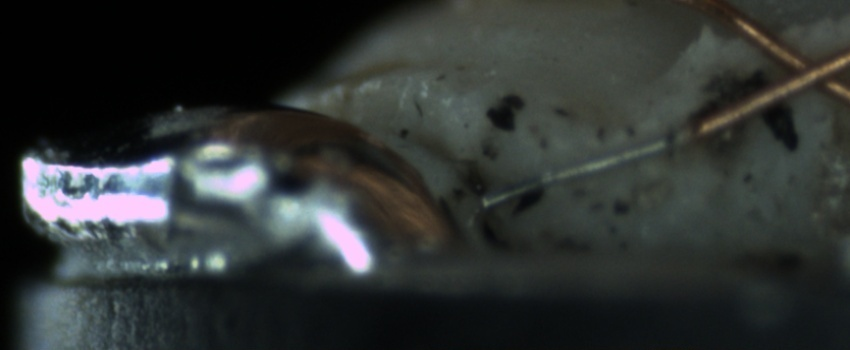CL: (734, 24, 850, 117)
TS: (478, 122, 683, 212)
